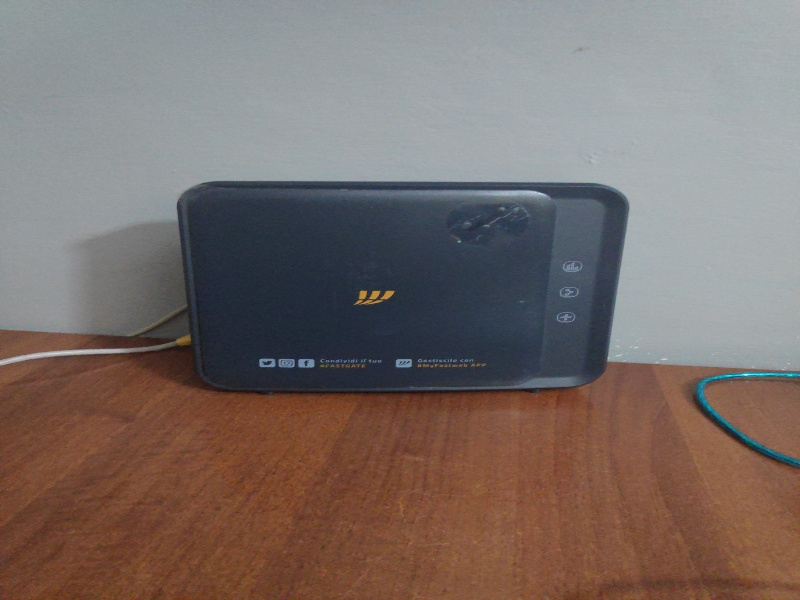router: (174, 180, 631, 396)
